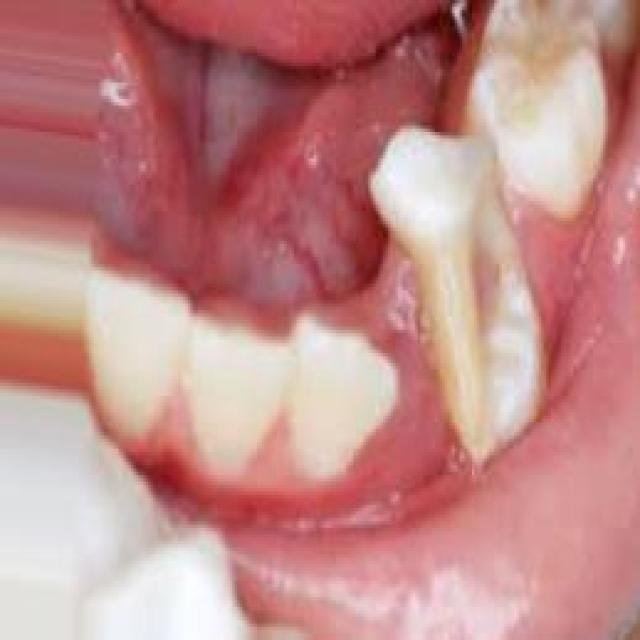caries: (390, 151, 560, 473)
